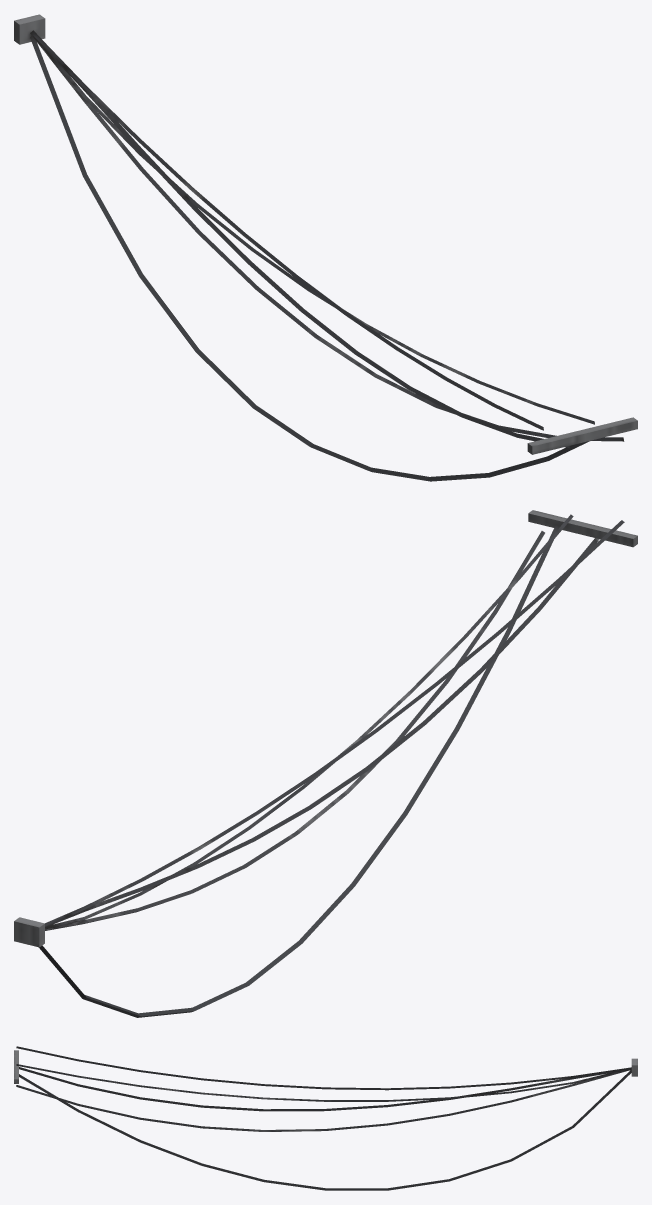
Rendered from nodexeus-set-run-cable-d.glb.
3 renders of one model, top to bottom at view 1: azimuth 30°, elevation 25°; view 2: azimuth 150°, elevation 25°; view 3: azimuth 270°, elevation 25°, orthographic. The views are drawn at different scales.
Parts seen in each view (by area): view 1: set-run-cable-d; view 2: set-run-cable-d; view 3: set-run-cable-d.
Boxes of the visible parts, x1,y1,x2,y2 form: set-run-cable-d: [14, 14, 637, 481]; set-run-cable-d: [14, 510, 637, 1017]; set-run-cable-d: [14, 1046, 637, 1190].
Size of the model in its own units: 0.66 by 1.41 by 6.06.
1 material, 1 textured.
